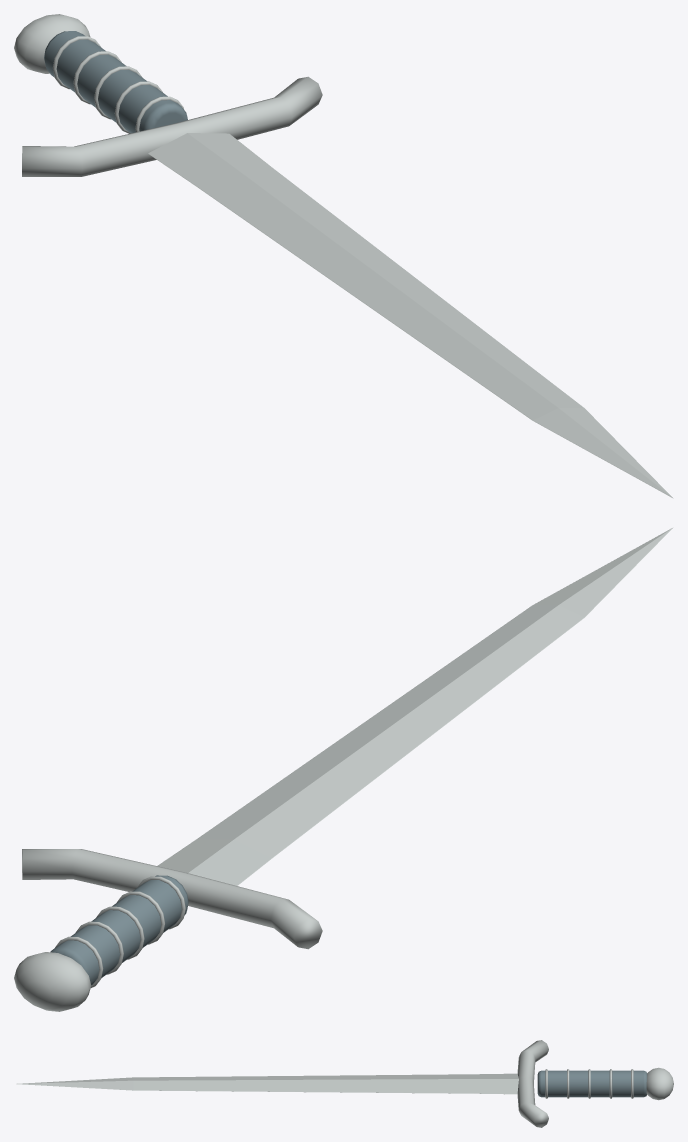
Rendered from sword.glb.
3 views of the same model, one above another, from view 1: azimuth 30°, elevation 25°; view 2: azimuth 150°, elevation 25°; view 3: azimuth 270°, elevation 25° (orthographic). The views are drawn at different scales.
Visible parts, largest first — view 1: blade, crossguard, grip, pommel; view 2: blade, crossguard, grip, pommel; view 3: blade, grip, crossguard, pommel.
Part boxes in pixels (x1,y1,x2,y2): blade: (148, 133, 673, 498); crossguard: (22, 76, 322, 176); grip: (44, 31, 187, 133); pommel: (14, 14, 90, 73); blade: (157, 527, 673, 885); crossguard: (22, 849, 322, 949); grip: (50, 875, 188, 985); pommel: (14, 952, 91, 1011); blade: (17, 1073, 518, 1094); grip: (537, 1070, 647, 1097); crossguard: (517, 1040, 548, 1127); pommel: (646, 1067, 673, 1100).
Size of the model in its own units: 0.2944 by 0.05 by 1.08.
